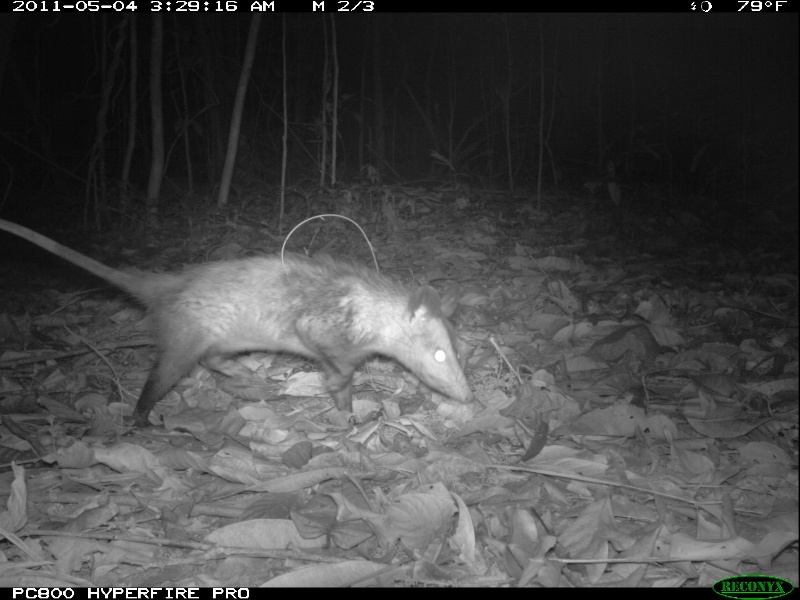opossum: (1, 217, 476, 418)
